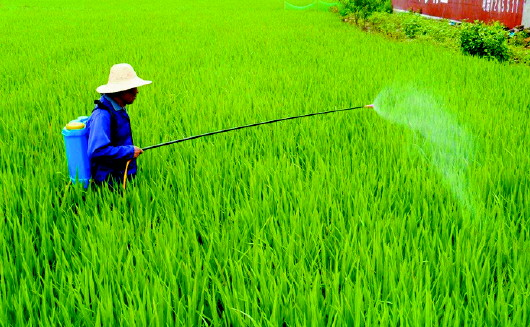berrl: (61, 115, 95, 193)
